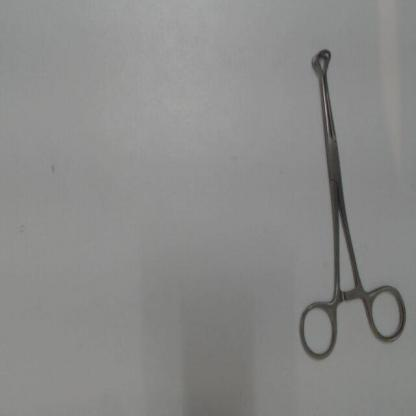Babcock Tissue Forceps: (296, 42, 409, 365)
